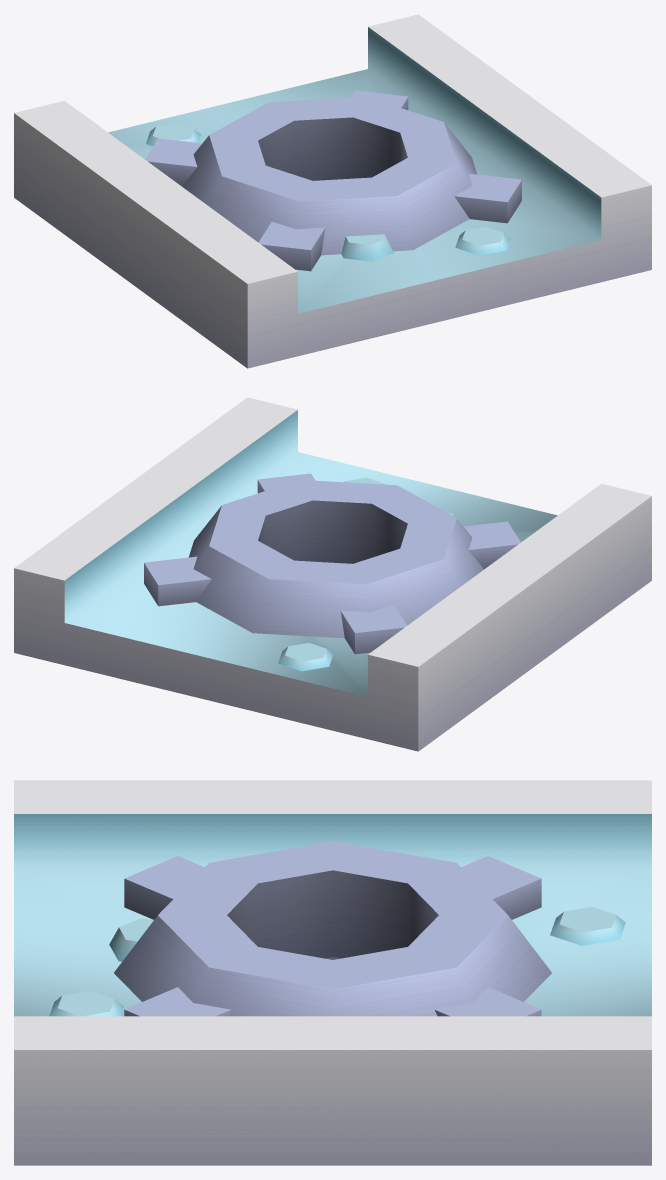
File: tower-defense-kit--snow-tile-spawn-round.glb
The picture shows the model from 3 angles, top to bottom: view 1: azimuth 30°, elevation 25°; view 2: azimuth 150°, elevation 25°; view 3: azimuth 270°, elevation 25°; orthographic projection. The views are drawn at different scales.
Parts seen in each view (by area): view 1: snow-tile-spawn-round; view 2: snow-tile-spawn-round; view 3: snow-tile-spawn-round.
Boxes of the visible parts, x1,y1,x2,y2 form: snow-tile-spawn-round: (14, 14, 651, 368); snow-tile-spawn-round: (14, 397, 651, 751); snow-tile-spawn-round: (14, 780, 651, 1165).
Bounding box in the file's own units: 1 × 0.2 × 1.
Materials: 1 (1 with a texture image).
